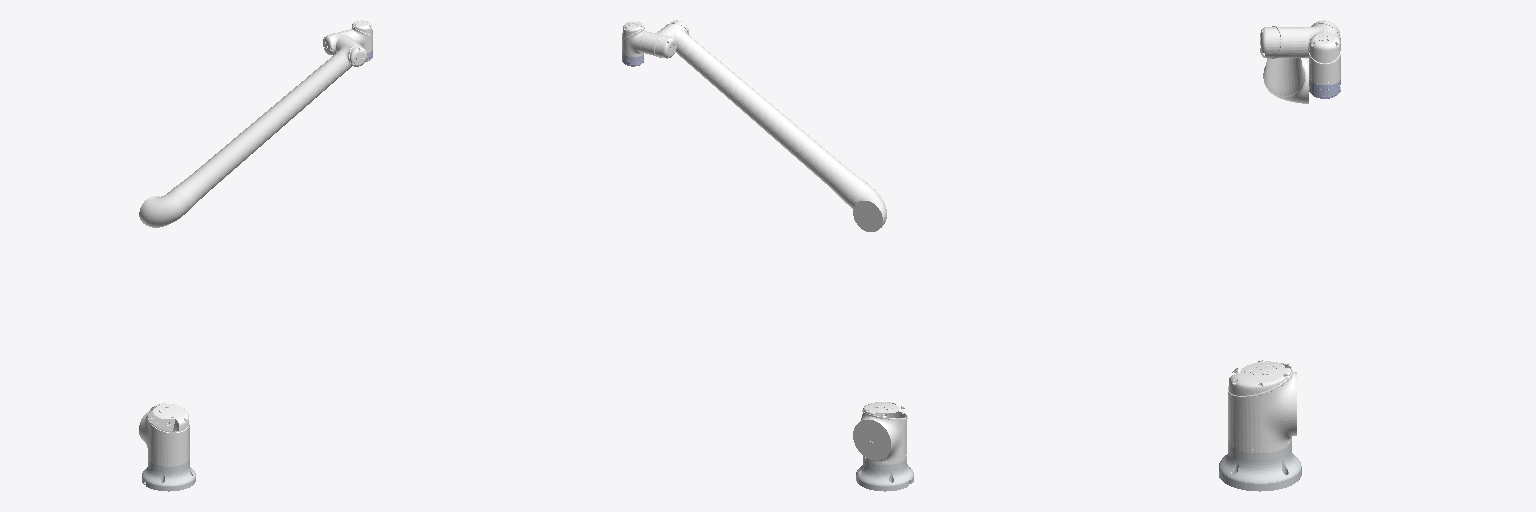
URDF robot description (ec64):
<?xml version="1.0" encoding="utf-8"?>

<robot name="ec64" xmlns:xacro="http://www.ros.org/wiki/xacro">

  <link name="base_link">
  <inertial>
    <origin xyz="-0.0009283 -9.3169E-06 0.05675" rpy="0 0 0" />
    <mass value="0.96661" />
    <inertia ixx="0.0024056" ixy="-4.4072E-08" ixz="-3.4836E-05" iyy="0.0022827" iyz="-2.2372E-07" izz="0.0035887" />
  </inertial>
  <visual>
    <origin xyz="0 0 0" rpy="0 0 0" />
    <geometry>
      <mesh filename="../meshes/base_link.STL" />
    </geometry>
    <material name="">
      <color rgba="0.89412 0.91373 0.92941 1" />
    </material>
  </visual>
  <collision>
    <origin xyz="0 0 0" rpy="0 0 0" />
    <geometry>
      <mesh filename="../meshes/base_link.STL" />
    </geometry>
  </collision>
  </link>
  <link name="link1">
  <inertial>
    <origin xyz="0.08E-03 21.364E-03 -27.402E-03" rpy="0 0 0" />
    <mass value="8.18" />
    <inertia ixx="35450.264E-06" ixy="-17.173E-06" ixz="34.768E-06" iyy="25786.610E-06" iyz="5278.815E-06" izz="34087.543E-06" />
  </inertial>
  <visual>
    <origin xyz="0 0 0" rpy="0 0 0" />
    <geometry>
      <mesh filename="../meshes/link1.STL" />
    </geometry>
    <material name="">
      <color rgba="1 1 1 1" />
    </material>
  </visual>
  <collision>
    <origin xyz="0 0 0" rpy="0 0 0" />
    <geometry>
      <mesh filename="../meshes/link1.STL" />
    </geometry>
  </collision>
  </link>
  <joint name="joint1" type="revolute">
    <origin xyz="0 0 0.185" rpy="0 0 0" />
    <parent link="base_link" />
    <child link="link1" />
    <axis xyz="0 0 1" />
    <limit lower="-6.2832" upper="6.2832" effort="200" velocity="2.0944" />
  </joint>
  <link name="link2">
  <inertial>
    <origin xyz="321.992E-03 -0.024E-03 -19.541E-03" rpy="0 0 0" />
    <mass value="14.6" />
    <inertia ixx="44724.008E-06" ixy="378.893E-06" ixz="39547.474E-06" iyy="1989904.887E-06" iyz="-21E-06" izz="1987029.806E-06" />
  </inertial>
  <visual>
    <origin xyz="0 0 -0.1" rpy="-1.57 0 -1.57" />
    <geometry>
      <mesh filename="../meshes/link2.dae" />
    </geometry>
    <!-- <material name="">
      <color rgba="1 1 1 1" />
    </material> -->
  </visual>
  <collision>
    <origin xyz="0 0 -0.1" rpy="-1.57 0 -1.57" />
    <geometry>
      <mesh filename="../meshes/link2_decimated.dae" />
    </geometry>
  </collision>
  </link>
  <joint name="joint2" type="revolute">
    <origin xyz="0 0.1845 0" rpy="-1.5708 -1.57 0" />
    <parent link="link1" />
    <child link="link2" />
    <axis xyz="0 0 1" />
    <limit lower="-6.2832" upper="6.2832" effort="200" velocity="2.0944" />
  </joint>
  <link name="link3">
  <inertial>
    <origin xyz="392.163E-03 -0.072E-03 15.478E-03" rpy="0 0 0" />
    <mass value="4.98" />
    <inertia ixx="10517.514E-06" ixy="-72.456E-06" ixz="-18492.397E-06" iyy="726047.887E-06" iyz="14.91E-06" izz="723466.58E-06" />
  </inertial>
  <visual>
    <origin xyz="0 0 0" rpy="0 0 0" />
    <geometry>
      <mesh filename="../meshes/link3.STL" />
    </geometry>
    <material name="">
      <color rgba="1 1 1 1" />
    </material>
  </visual>
  <collision>
    <origin xyz="0 0 0" rpy="0 0 0" />
    <geometry>
      <mesh filename="../meshes/link3.STL" />
    </geometry>
  </collision>
  </link>
  <joint name="joint3" type="revolute">
    <origin xyz="0.86 0 -0.127" rpy="0 0 1.04" />
    <parent link="link2" />
    <child link="link3" />
    <axis xyz="0 0 1" />
    <limit lower="-6.2832" upper="6.2832" effort="150" velocity="2.618" />
  </joint>
  <link name="link4">
  <inertial>
    <origin xyz="-0.182E-03 11.972E-03 85.662E-03" rpy="0 0 0" />
    <mass value="1.23" />
    <inertia ixx="1665.654E-06" ixy="7.248E-06" ixz="1.148E-06" iyy="1504.639E-06" iyz="204.8E-06" izz="1047.436E-06" />
  </inertial>
  <visual>
    <origin xyz="0 0 0" rpy="0 0 0" />
    <geometry>
      <mesh filename="../meshes/link4.STL" />
    </geometry>
    <material name="">
      <color rgba="1 1 1 1" />
    </material>
  </visual>
  <collision>
    <origin xyz="0 0 0" rpy="0 0 0" />
    <geometry>
      <mesh filename="../meshes/link4.STL" />
    </geometry>
  </collision>
  </link>
  <joint name="joint4" type="revolute">
    <origin xyz="0.942 0 0" rpy="0 0 -1.04" />
    <parent link="link3" />
    <child link="link4" />
    <axis xyz="0 0 1" />
    <limit lower="-6.2832" upper="6.2832" effort="28" velocity="4.5379" />
  </joint>
  <link name="link5">
  <inertial>
    <origin xyz="-0.182E-03 11.972E-03 85.662E-03" rpy="0 0 0" />
    <mass value="1.23" />
    <inertia ixx="1665.654E-06" ixy="-7.248E-06" ixz="-1.148E-06" iyy="1504.639E-06" iyz="204.8E-06" izz="1047.436E-06" />
  </inertial>
  <visual>
    <origin xyz="0 0 0" rpy="0 0 0" />
    <geometry>
      <mesh filename="../meshes/link5.STL" />
    </geometry>
    <material name="">
      <color rgba="1 1 1 1" />
    </material>
  </visual>
  <collision>
    <origin xyz="0 0 0" rpy="0 0 0" />
    <geometry>
      <mesh filename="../meshes/link5.STL" />
    </geometry>
  </collision>
  </link>
  <joint name="joint5" type="revolute">
    <origin xyz="0 0 0.098" rpy="-1.5708 1.57 0" />
    <parent link="link4" />
    <child link="link5" />
    <axis xyz="0 0 1" />
    <limit lower="-6.2832" upper="6.2832" effort="28" velocity="4.5379" />
  </joint>
  <link name="link6">
  <inertial>
    <origin xyz="0.148E-03 -0.314E-03 55.83E-03" rpy="0 0 0" />
    <mass value="0.46" />
    <inertia ixx="398.012E-06" ixy="0.436E-06" ixz="1.071E-06" iyy="406.419E-06" iyz="-2.4E-06" izz="309.106E-06" />
  </inertial>
  <visual>
    <origin xyz="0 0 0" rpy="0 0 0" />
    <geometry>
      <mesh filename="../meshes/link6.STL" />
    </geometry>
    <material name="">
      <color rgba="0.79216 0.81961 0.93333 1" />
    </material>
  </visual>
  <collision>
    <origin xyz="0 0 0" rpy="0 0 0" />
    <geometry>
      <mesh filename="../meshes/link6.STL" />
    </geometry>
  </collision>
  </link>
  <joint name="joint6" type="revolute">
    <origin xyz="0 0 0.098" rpy="-1.5708 1.5708 0" />
    <parent link="link5" />
    <child link="link6" />
    <axis xyz="0 0 1" />
    <limit lower="-6.2832" upper="6.2832" effort="28" velocity="4.5379" />
  </joint>
  
<link name="flan">
  <inertial>
    <origin xyz="0 0 0" rpy="0 0 0" />
    <mass value="0.001" />
    <inertia ixx="1e-6" ixy="0" ixz="0" iyy="1e-6" iyz="0" izz="1e-6" />
  </inertial>
</link>

  <joint name="flan_joint" type="fixed">
    <origin xyz="0 0 0.089" rpy="0 0 1.5708" />
    <parent link="link6" />
    <child link="flan" />
    <axis xyz="0 0 0" />
  </joint>



        <gazebo reference="flan_joint">   <!-- use the name of your flange joint -->
            <preserveFixedJoint>true</preserveFixedJoint>
        </gazebo>
                <gazebo reference="gripper_base_joint">  
            <preserveFixedJoint>true</preserveFixedJoint>
        </gazebo>
        <gazebo reference="left_outer_knucle_joint">  
            <preserveFixedJoint>true</preserveFixedJoint>
        </gazebo>
        <gazebo reference="left_inner_knuckle_joint">  
            <preserveFixedJoint>true</preserveFixedJoint>
        </gazebo>
  
</robot>

--- What the picture shows (computed from the rendered views, not written in the file) ---
3 views of the same robot in one strip: view 1: azimuth 30°, elevation 25°; view 2: azimuth 150°, elevation 25°; view 3: azimuth 270°, elevation 25° (orthographic).
Model ec64 with 8 links and 7 joints (6 revolute, 1 fixed), rooted at base_link, posed every joint at zero.
Links seen in each view (by area): view 1: link3, link1, base_link; view 2: link3, link1, base_link, link4, link5; view 3: link1, link3, base_link, link5.
Boxes of the visible links, <box> form: link3: <box>139,38,366,227</box>; link1: <box>139,403,189,466</box>; base_link: <box>142,458,195,491</box>; link3: <box>661,20,886,231</box>; link1: <box>853,402,907,464</box>; base_link: <box>856,458,913,491</box>; link4: <box>640,30,676,58</box>; link5: <box>622,22,646,56</box>; link1: <box>1228,360,1296,452</box>; link3: <box>1260,26,1308,103</box>; base_link: <box>1219,440,1301,491</box>; link5: <box>1308,33,1340,84</box>.
Size in the robot's own frame: 1.05 by 0.2952 by 1.58 metres.
Meshes: 7 distinct files referenced, 6 mesh visuals loaded (6 binary STL); not drawn: 1 (reference not matched to a file when rendering).
